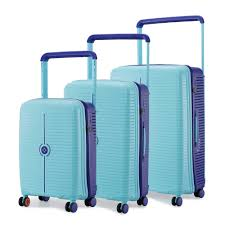suitcase: (109, 14, 207, 210), (61, 33, 153, 215), (17, 49, 97, 213)
